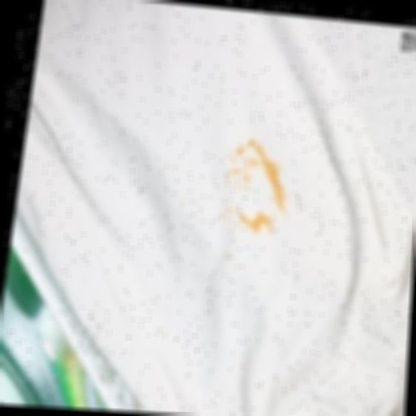kimchi: (218, 138, 271, 189), (219, 202, 286, 231), (264, 161, 292, 215)
